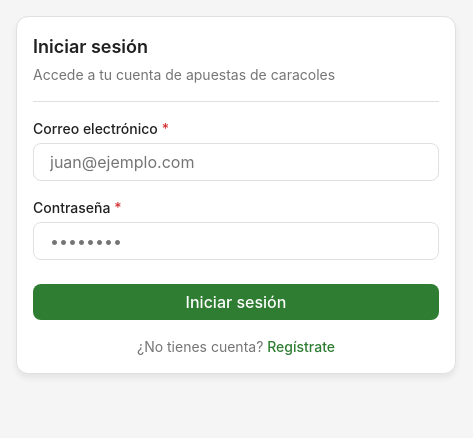
Test: LoginForm › shows validation error for empty fields
Click the button "Iniciar sesión": [236, 302] box [33,284,439,320]
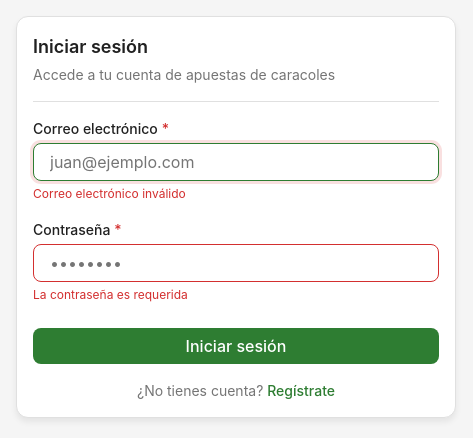
Result: the text "Correo electrónico inválido" is shown at [33,186,186,201]
Result: the text "La contraseña es requerida" is shown at [33,287,188,302]
